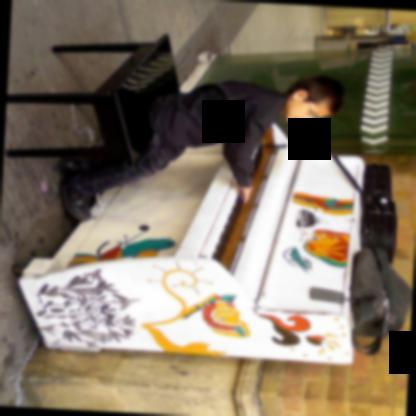backpack: (349, 250, 410, 351)
handbag: (349, 246, 412, 356)
suitcase: (359, 163, 397, 267)
